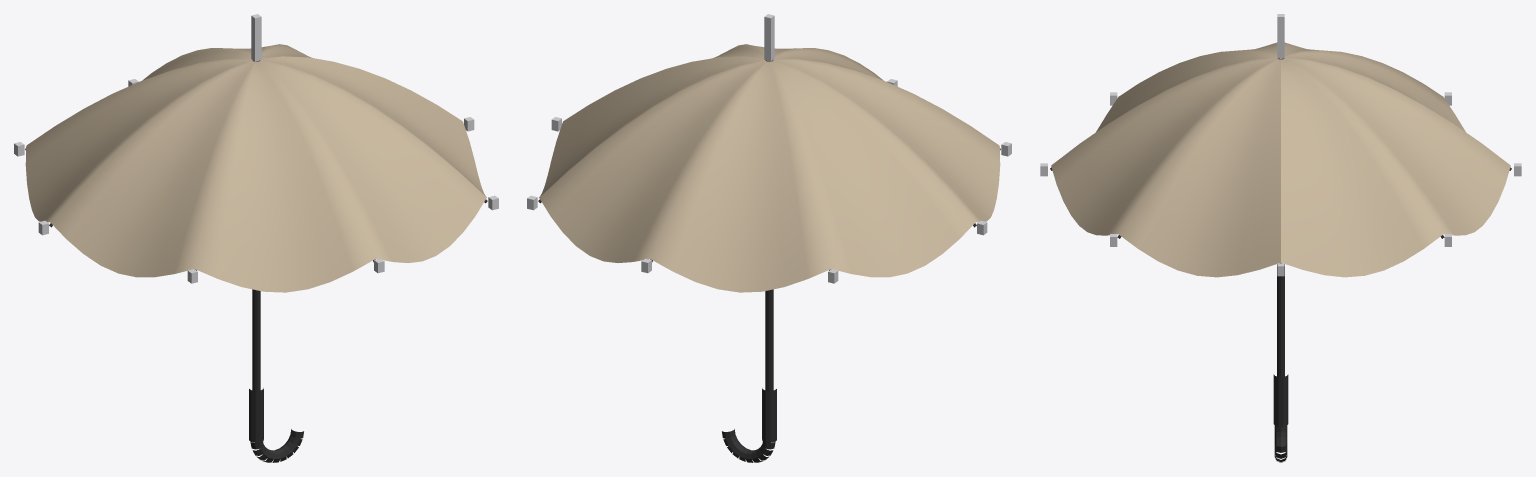
Rendered from bege.gltf.
3 renders of one model, left to right at view 1: azimuth 30°, elevation 25°; view 2: azimuth 150°, elevation 25°; view 3: azimuth 270°, elevation 25°, orthographic. The views are drawn at different scales.
Visible parts, largest first — view 1: carro; view 2: carro; view 3: carro.
Boxes of the visible parts, box(x1,y1,x2,y2) form: carro: box(14, 14, 498, 462); carro: box(527, 14, 1011, 462); carro: box(1040, 14, 1521, 462).
Size of the model in its own units: 1.05 by 1.04 by 1.05.
